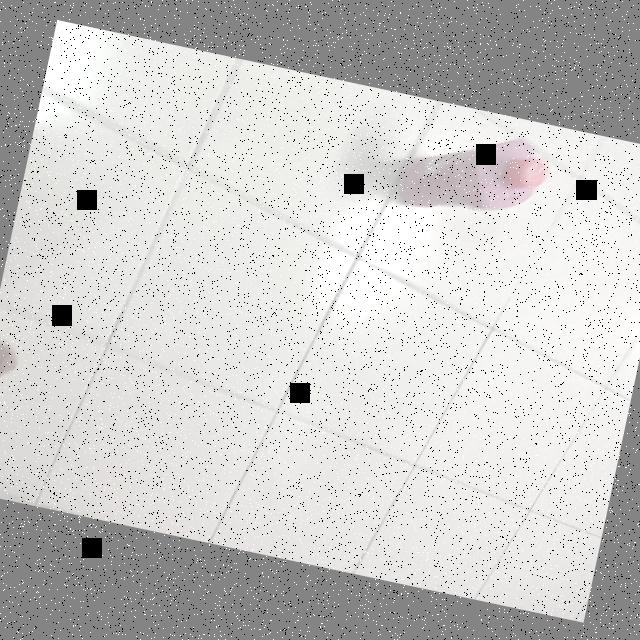chemical_plastic_bottle: (388, 109, 556, 238)
